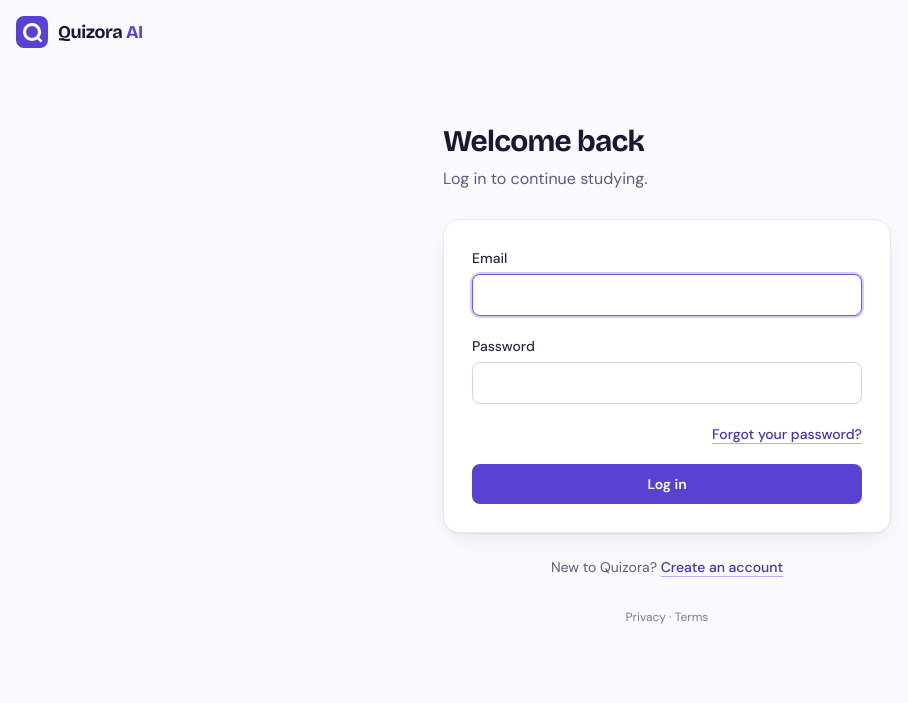
Scenario: Login form › submits credentials and shows a server error message on failure
In the field labelled "Email": [667, 295] box top-left (472, 274), bottom-right (862, 316), type "ada@example.com"
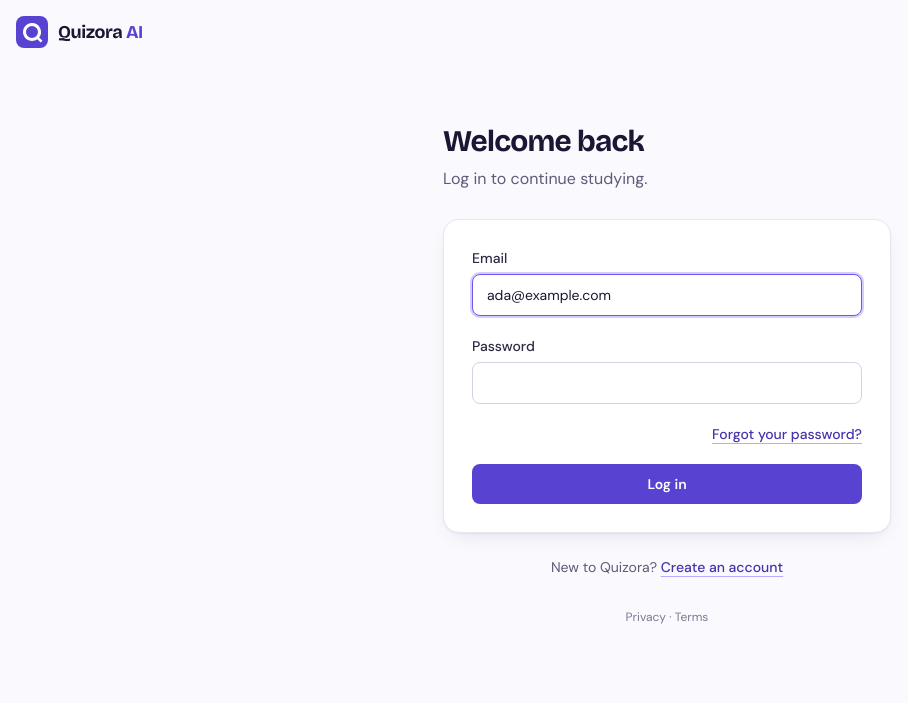
In the password field labelled "Password": [667, 383] box top-left (472, 362), bottom-right (862, 404), type "wrong-password"
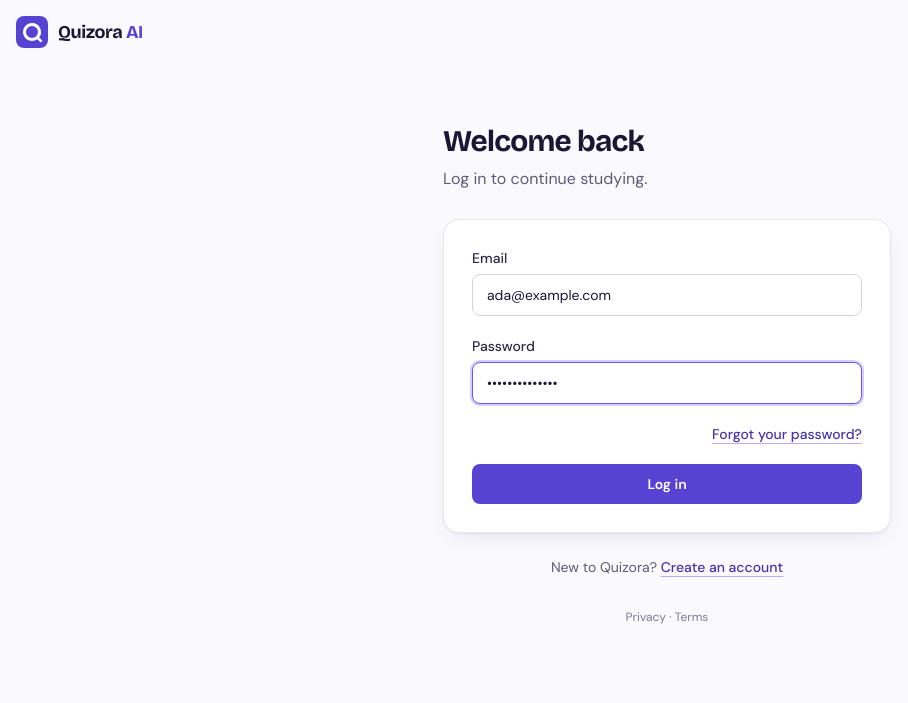
Click the button "Log in": [667, 484] box top-left (472, 464), bottom-right (862, 504)
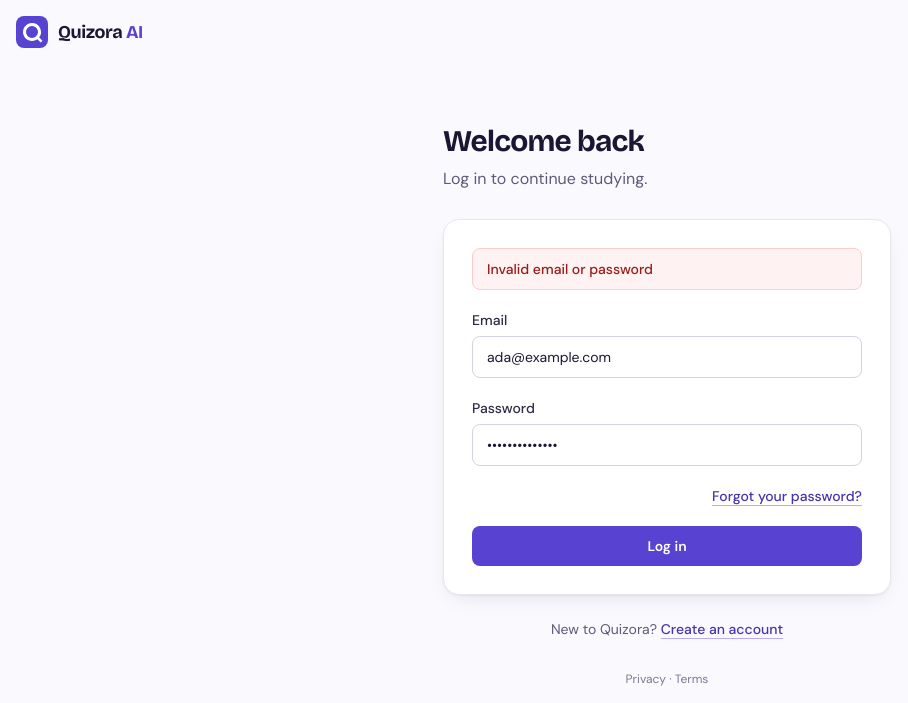
Check: the message reads "Invalid email or password", box top-left (487, 260), bottom-right (653, 278)
